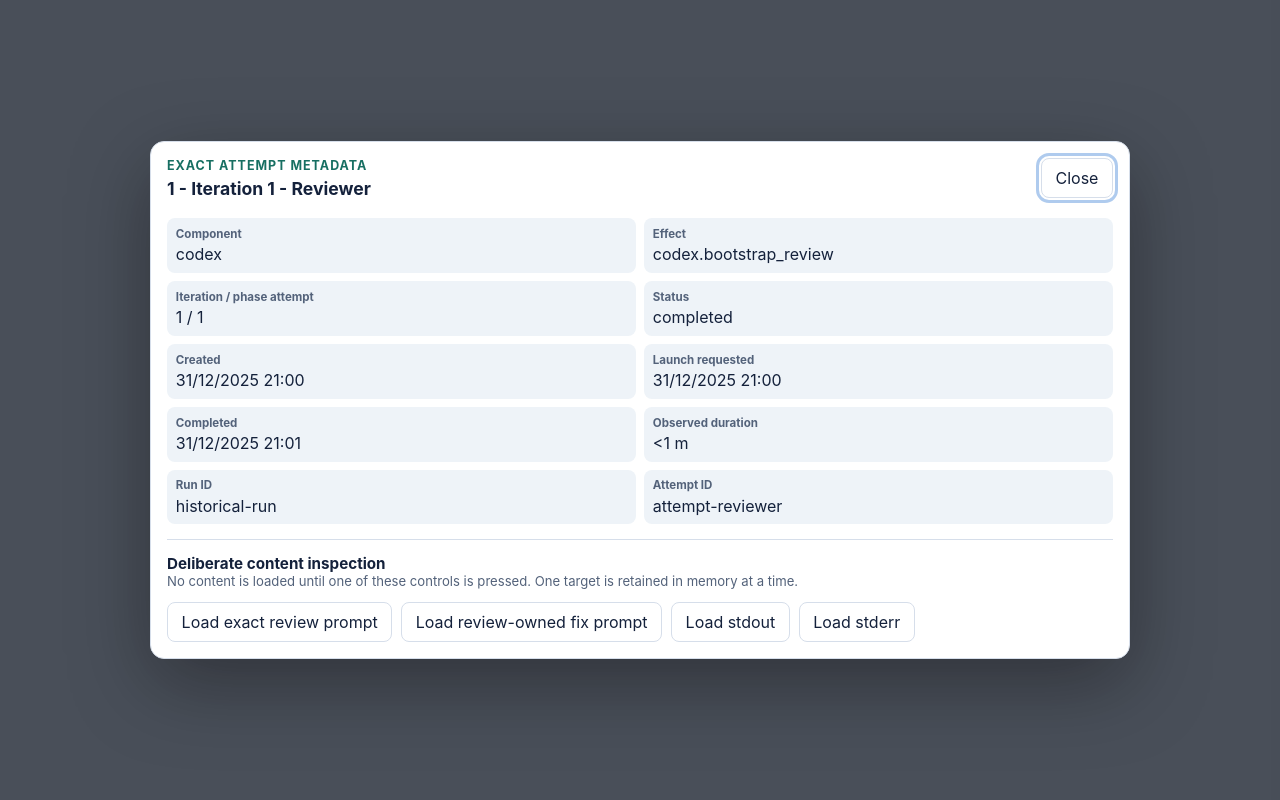
Test: C265-1 attempt metadata and deliberate ownership › keeps a historical not_recorded review prompt unavailable without fabricating bytes
The width and height of the screenshot is (1280, 800).
Click the button "Load exact review prompt" at (280,622), box [167,602,392,642]
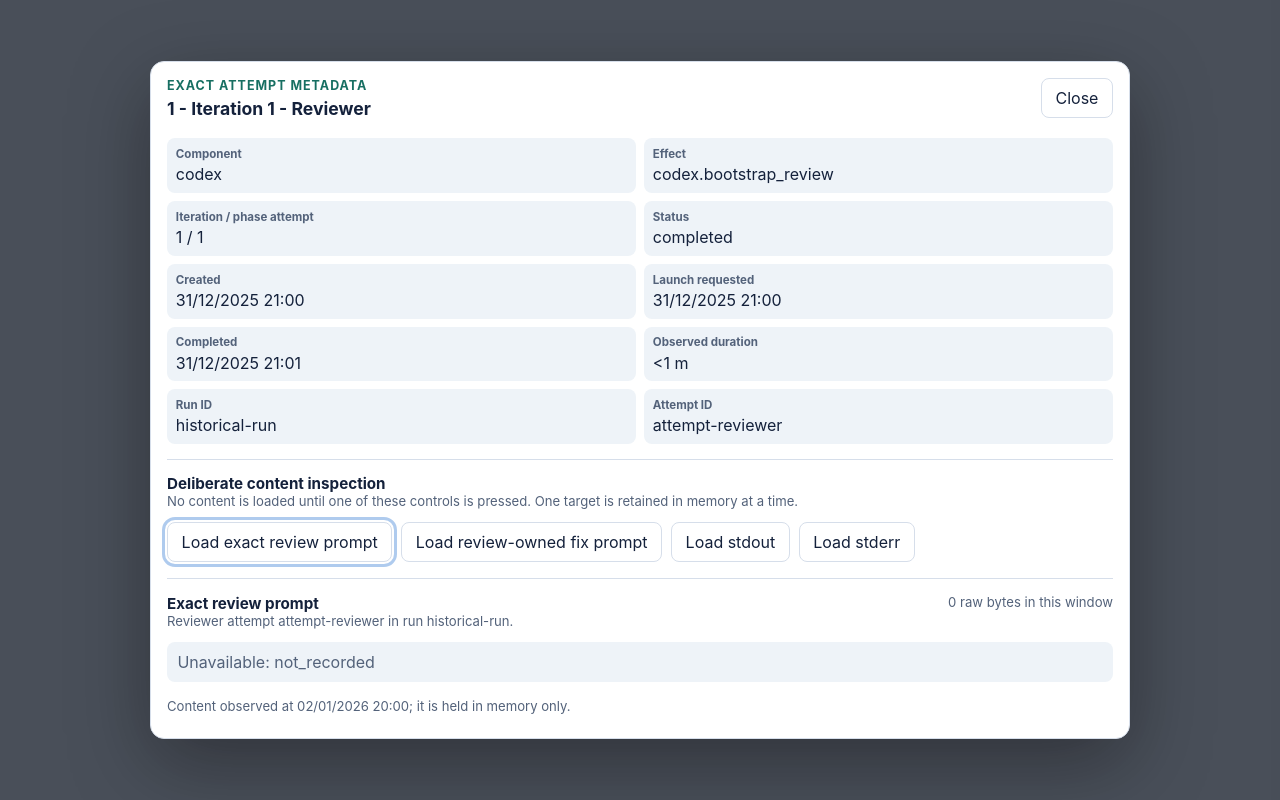
Check: the text "Unavailable: not_recorded" is shown, box [167,642,1113,682]
